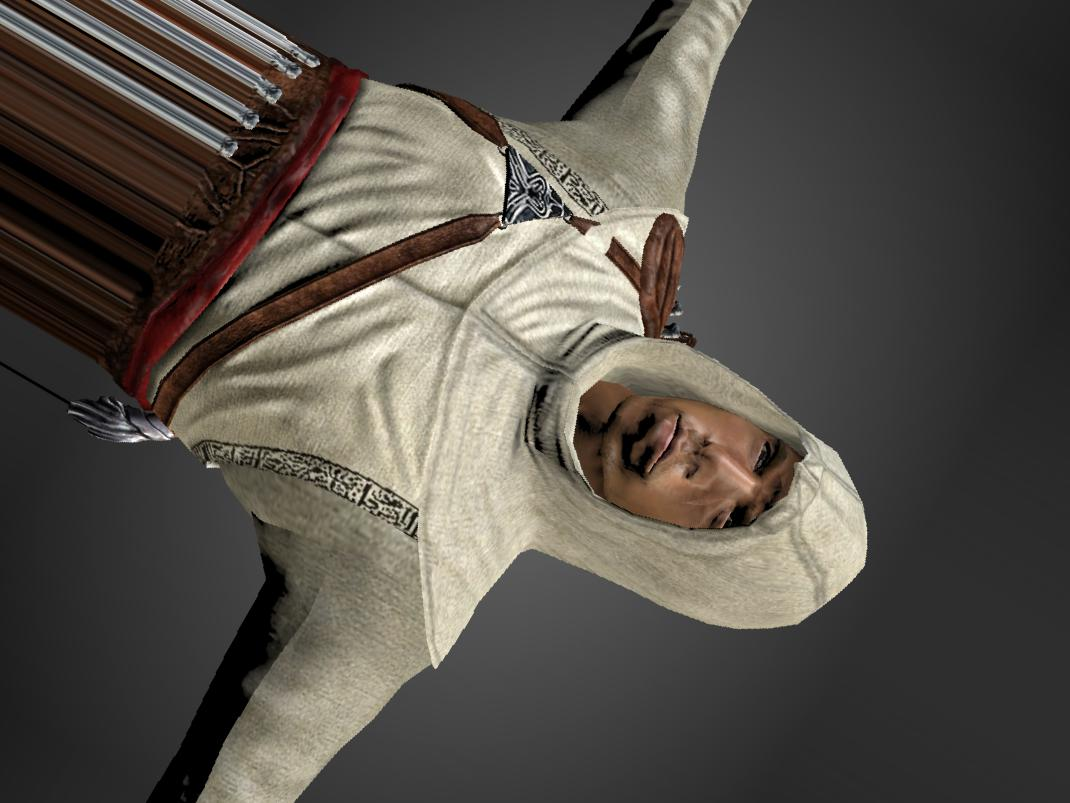clip: (570, 208, 626, 258)
